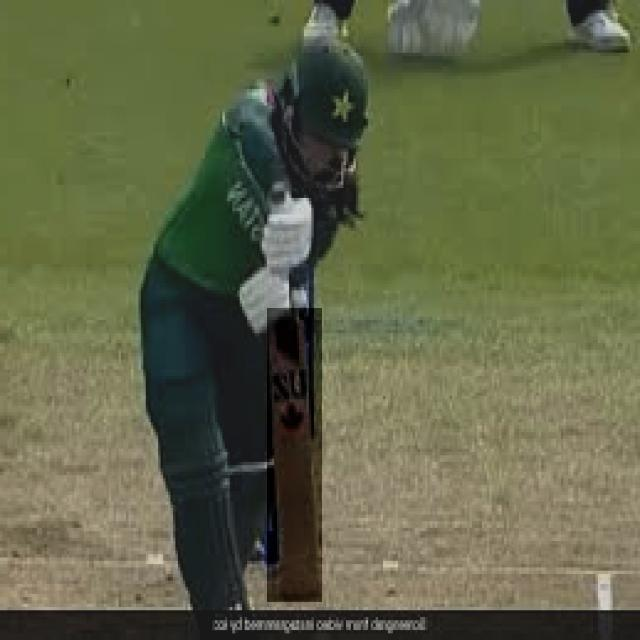bat: (270, 305, 326, 604)
toe: (270, 589, 329, 600)
